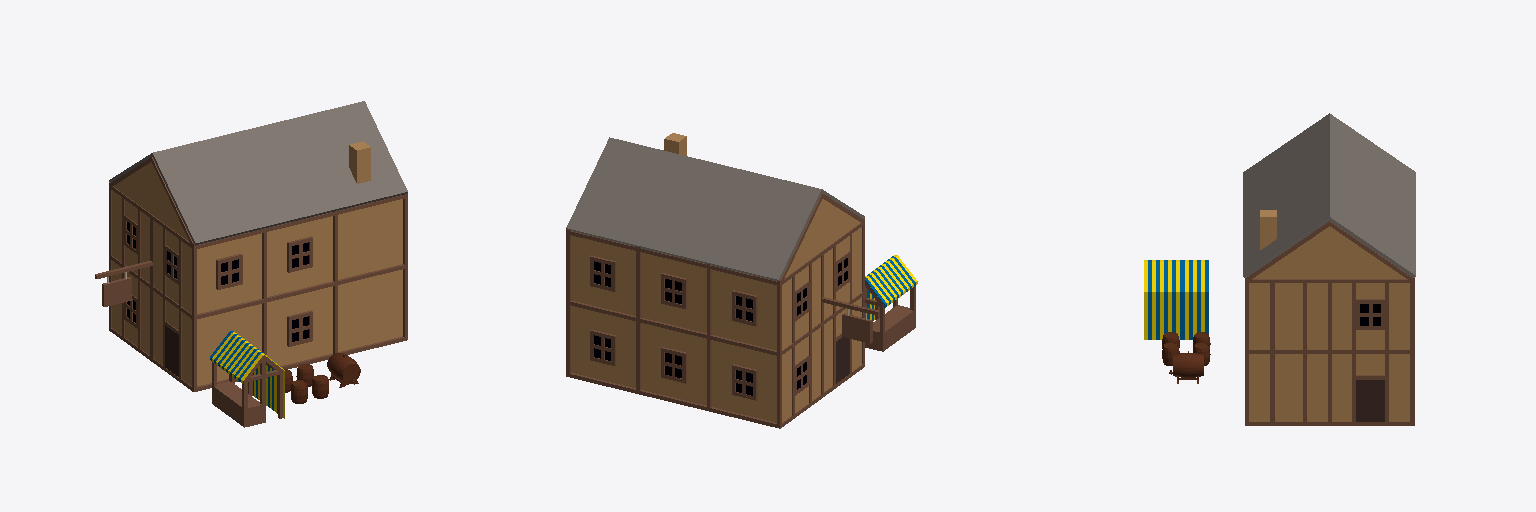
The model's file is timberframedvintner_yellow_blue.obj.
3 renders of one model, left to right at view 1: azimuth 30°, elevation 25°; view 2: azimuth 150°, elevation 25°; view 3: azimuth 270°, elevation 25°, orthographic.
Visible parts, largest first — view 1: Cube.005, Cube.007_Cube.011, Cube.011_Cube.015, Cube.018_Cube.016, Cube.056_Cube.081, barrel_Untitled, Cube.001_Cube.058, Cube.013_Cube.080, Cube.006_Cube.010, Cube.026_Cube.019, Cube.073_Cube.078, Cube.012_Cube.017 (+6 smaller); view 2: Cube.005, Cube.007_Cube.011, Cube.023_Cube.026, Cube.022_Cube.025, Cube.021_Cube.024, Cube.015_Cube.020, Cube.019_Cube.022, Cube.017_Cube.021, Cube.014_Cube.018, Cube.008, Cube.020_Cube.023, Cube.073_Cube.078 (+6 smaller); view 3: Cube.005, Cube.007_Cube.011, Cube.147_Cube.153, Cube.003, Cube.033, barrel_Untitled, Cube.027, Cube.047_Cube.049, Cube.031, Cube.006_Cube.010, Cube.016_Cube.013, Cube.012_Cube.017 (+5 smaller).
Part boxes in pixels (x1,y1,x2,y2): Cube.005: (112,162,402,385); Cube.007_Cube.011: (109,101,407,244); Cube.011_Cube.015: (195,264,406,319); Cube.018_Cube.016: (195,195,406,249); Cube.056_Cube.081: (216,254,242,289); barrel_Untitled: (327,353,360,387); Cube.001_Cube.058: (287,310,312,346); Cube.013_Cube.080: (287,236,312,272); Cube.006_Cube.010: (349,141,370,183); Cube.026_Cube.019: (192,243,196,391); Cube.073_Cube.078: (102,277,131,306); Cube.012_Cube.017: (403,193,407,339); Cube.005: (571,199,861,422); Cube.007_Cube.011: (566,137,864,280); Cube.023_Cube.026: (567,373,776,427); Cube.022_Cube.025: (567,301,777,355); Cube.021_Cube.024: (570,231,776,284); Cube.015_Cube.020: (732,290,757,326); Cube.019_Cube.022: (661,347,686,383); Cube.017_Cube.021: (590,330,615,365); Cube.014_Cube.018: (661,273,686,308); Cube.008: (590,255,615,291); Cube.020_Cube.023: (732,364,757,400); Cube.073_Cube.078: (842,313,872,343); Cube.005: (1249,226,1409,421); Cube.007_Cube.011: (1243,113,1415,277); Cube.147_Cube.153: (1144,292,1208,339); Cube.003: (1356,380,1384,421); Cube.033: (1356,299,1384,329); barrel_Untitled: (1169,351,1203,383); Cube.027: (1410,277,1414,425); Cube.047_Cube.049: (1270,279,1274,423); Cube.031: (1249,422,1410,425); Cube.006_Cube.010: (1260,210,1276,249); Cube.016_Cube.013: (1248,350,1409,353); Cube.012_Cube.017: (1245,277,1248,425).
Size of the model in its own units: 15.3 by 11.25 by 13.34.